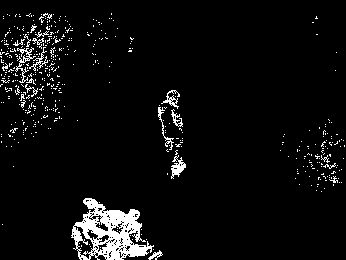person: (155, 87, 193, 182)
